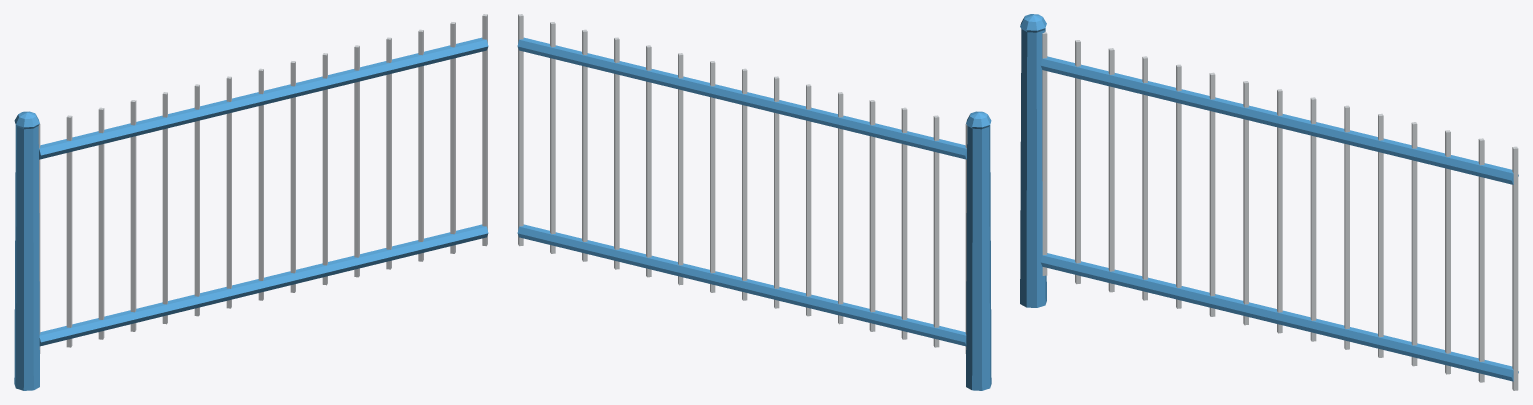
The model's file is 33665-Playground-Fence-Panel-City-Park-and-Playground.glb.
3 views of the same model, side by side, from view 1: azimuth 30°, elevation 25°; view 2: azimuth 150°, elevation 25°; view 3: azimuth 330°, elevation 25° (orthographic). The views are drawn at different scales.
Visible parts, largest first — view 1: playground-fence-panel-azure, playground-fence-panel-steel; view 2: playground-fence-panel-azure, playground-fence-panel-steel; view 3: playground-fence-panel-steel, playground-fence-panel-azure.
Boxes of the visible parts, x1,y1,x2,y2 form: playground-fence-panel-azure: (14, 37, 488, 390); playground-fence-panel-steel: (38, 14, 487, 353); playground-fence-panel-azure: (517, 37, 991, 390); playground-fence-panel-steel: (518, 14, 967, 353); playground-fence-panel-steel: (1042, 31, 1518, 390); playground-fence-panel-azure: (1020, 14, 1518, 381).
Size of the model in its own units: 2.06 by 1.14 by 0.1001.
